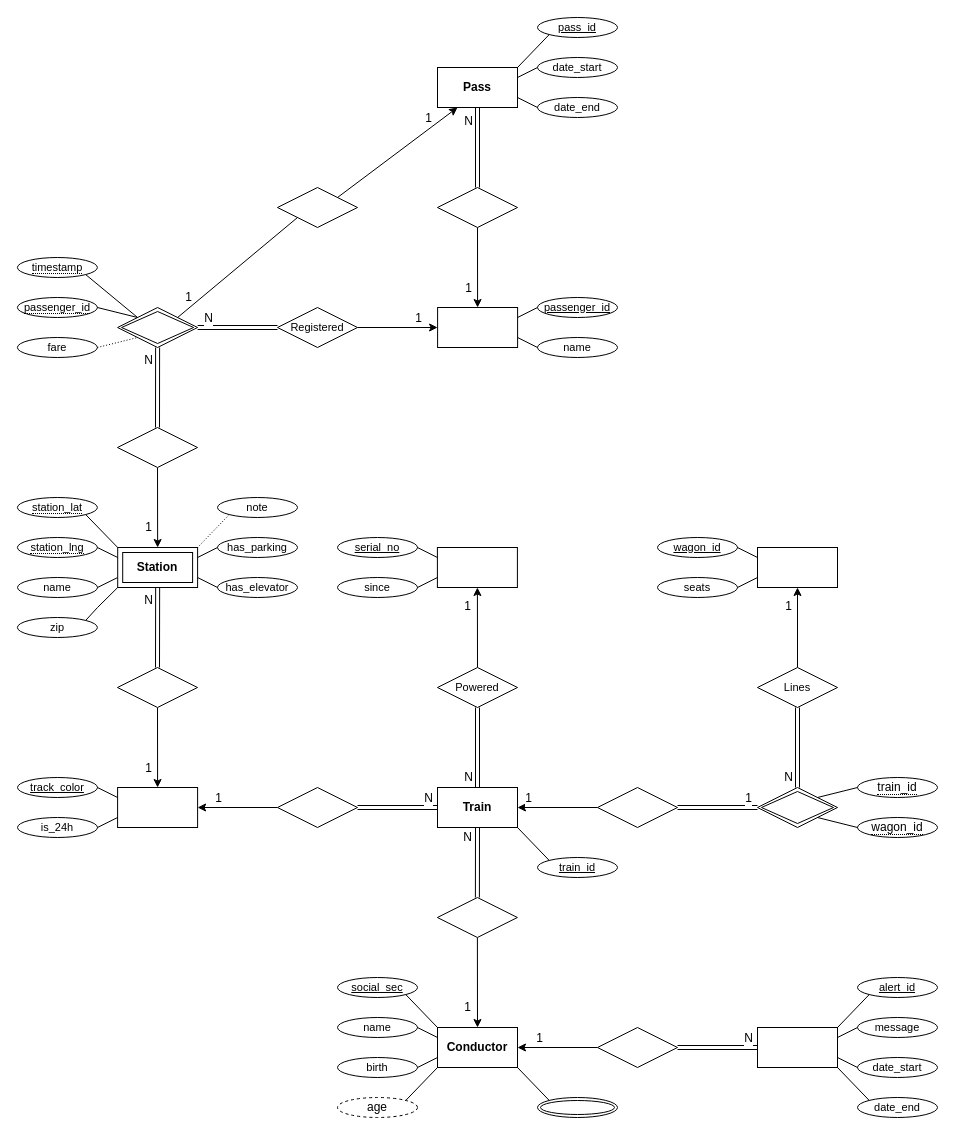
Image size: 956x1135. Some labels were removed from this diagram. The box of each missing label's shape, as (x1, y1, x2, y2) in pixels:
Alert: (756, 1026, 838, 1068)
Carried: (596, 786, 678, 828)
Controlled: (436, 896, 517, 938)
From & To: (116, 426, 198, 468)
Issued: (596, 1026, 678, 1068)
Locomotive: (436, 546, 517, 588)
Passenger: (437, 306, 518, 348)
phones: (536, 1096, 618, 1118)
Positioned: (116, 666, 198, 708)
Railcar: (756, 786, 838, 828)
Subscribed: (436, 186, 518, 228)
Track: (117, 786, 198, 828)
Travels: (276, 786, 358, 828)
Trip: (117, 306, 198, 348)
Uses: (276, 186, 358, 228)
Wagon: (756, 546, 838, 588)
